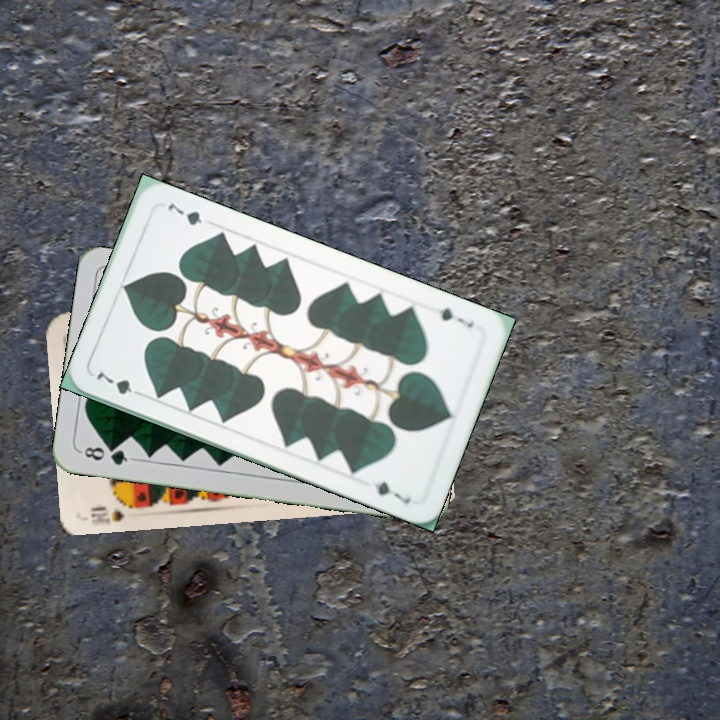G7: (92, 368, 147, 399), (435, 303, 476, 331)
G8: (77, 442, 136, 468)
S10: (87, 498, 141, 527)
